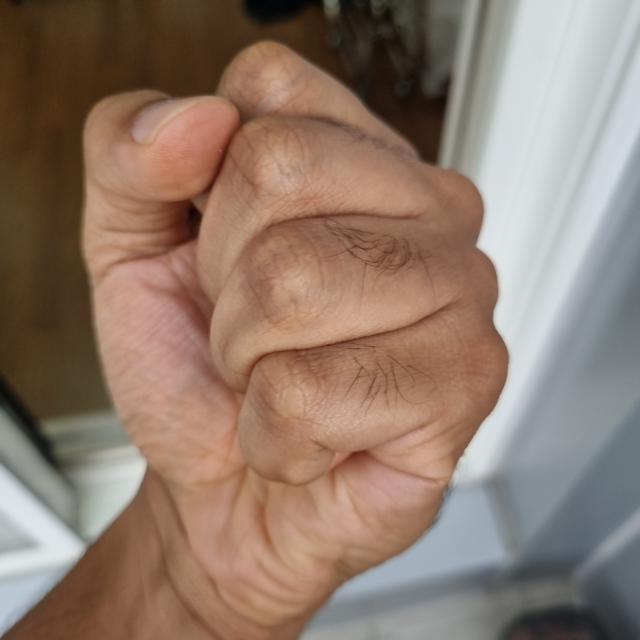Rock: (77, 36, 512, 566)
